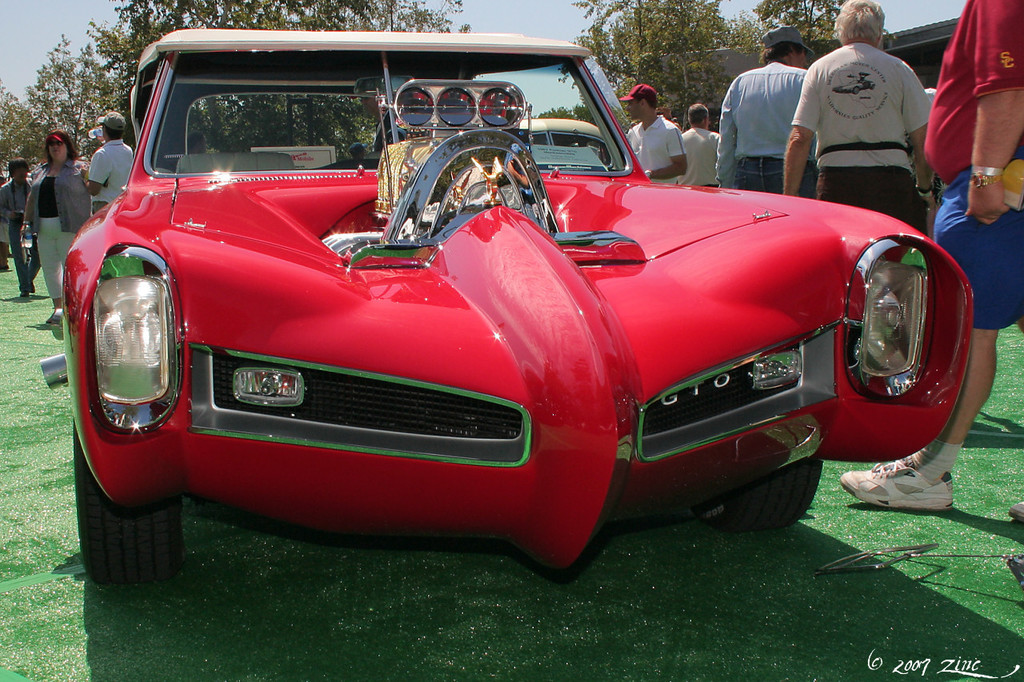mobil: (93, 46, 979, 585)
